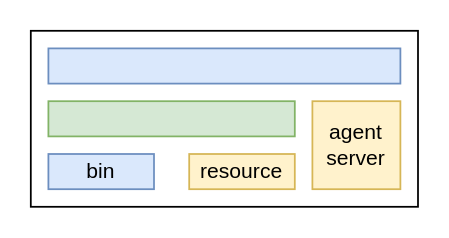
Image size: 449x238. Some labels were removed from this diagram. Here are the shapes that lost their labels. From the top down, the centre of each, then its label:
(223,65): UI
(171,117): Project Interface
